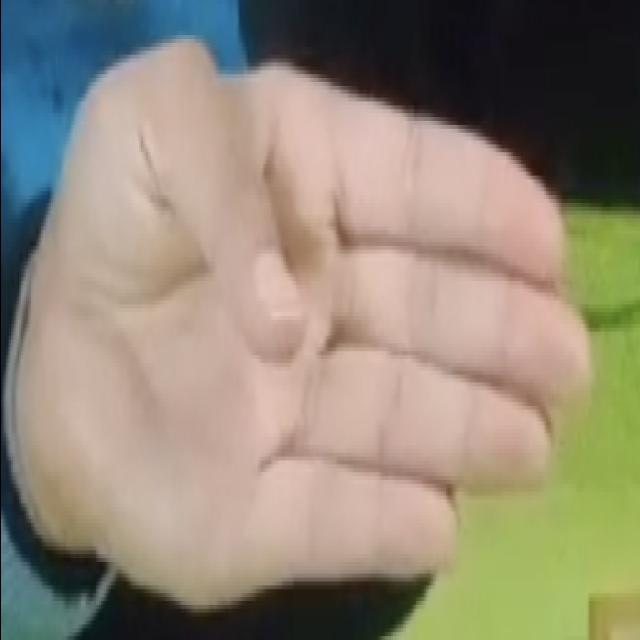B: (21, 29, 598, 622)
